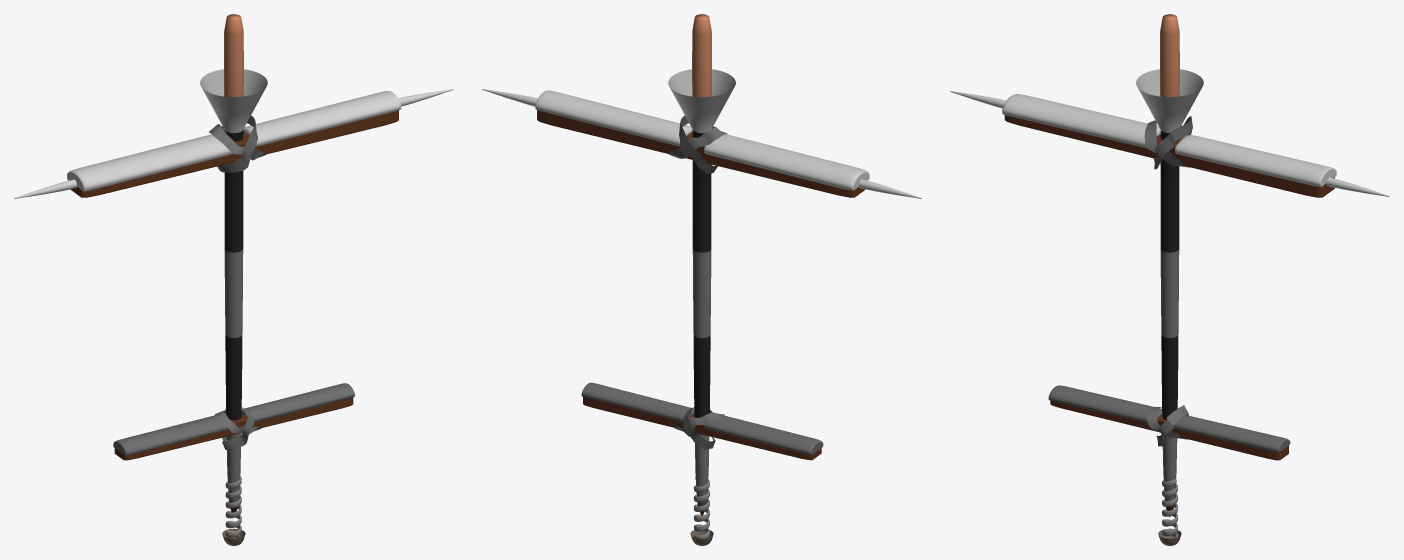
File: Medieval Pogo Stick.fbx
The picture shows the model from 3 angles, left to right: view 1: azimuth 30°, elevation 25°; view 2: azimuth 150°, elevation 25°; view 3: azimuth 330°, elevation 25°; orthographic projection.
Parts seen in each view (by area): view 1: pCylinder5 (×8); view 2: pCylinder5 (×8); view 3: pCylinder5 (×8).
Boxes of the visible parts, bbox=[...] form: pCylinder5 (×8): bbox=[14, 14, 453, 538]; pCylinder5 (×8): bbox=[482, 14, 921, 538]; pCylinder5 (×8): bbox=[950, 14, 1389, 537].
Bounding box in the file's own units: 67.09 × 76.93 × 8.97.
